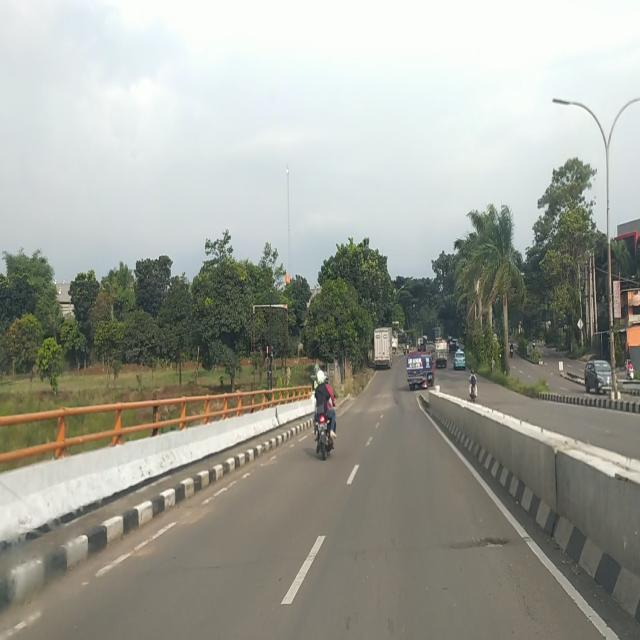Sewer Cover: (443, 538, 516, 551)
